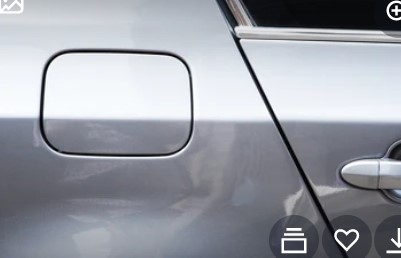closed: (33, 40, 202, 164)
